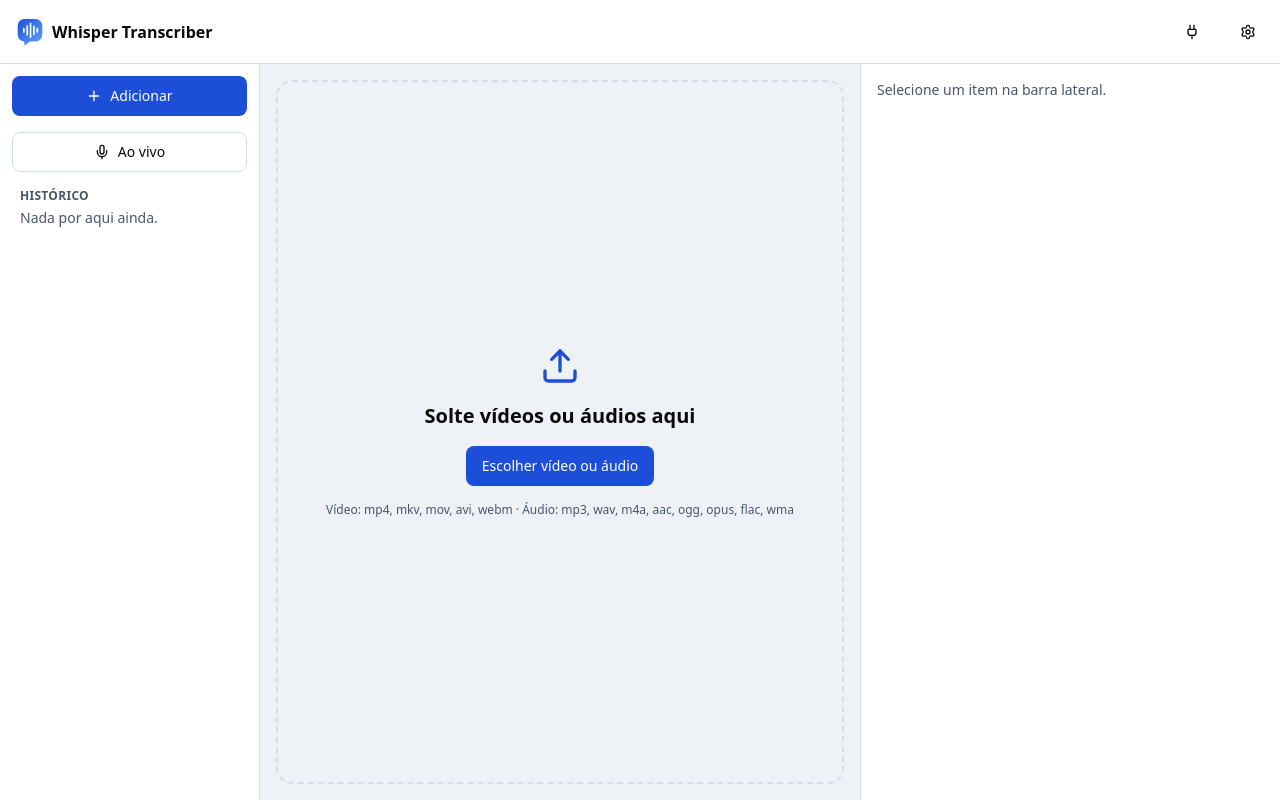
Test case: App › ⚙ abre as configurações e "Voltar" retorna
Click the button named "Configurações": (1248, 32) [1232,16,1264,48]
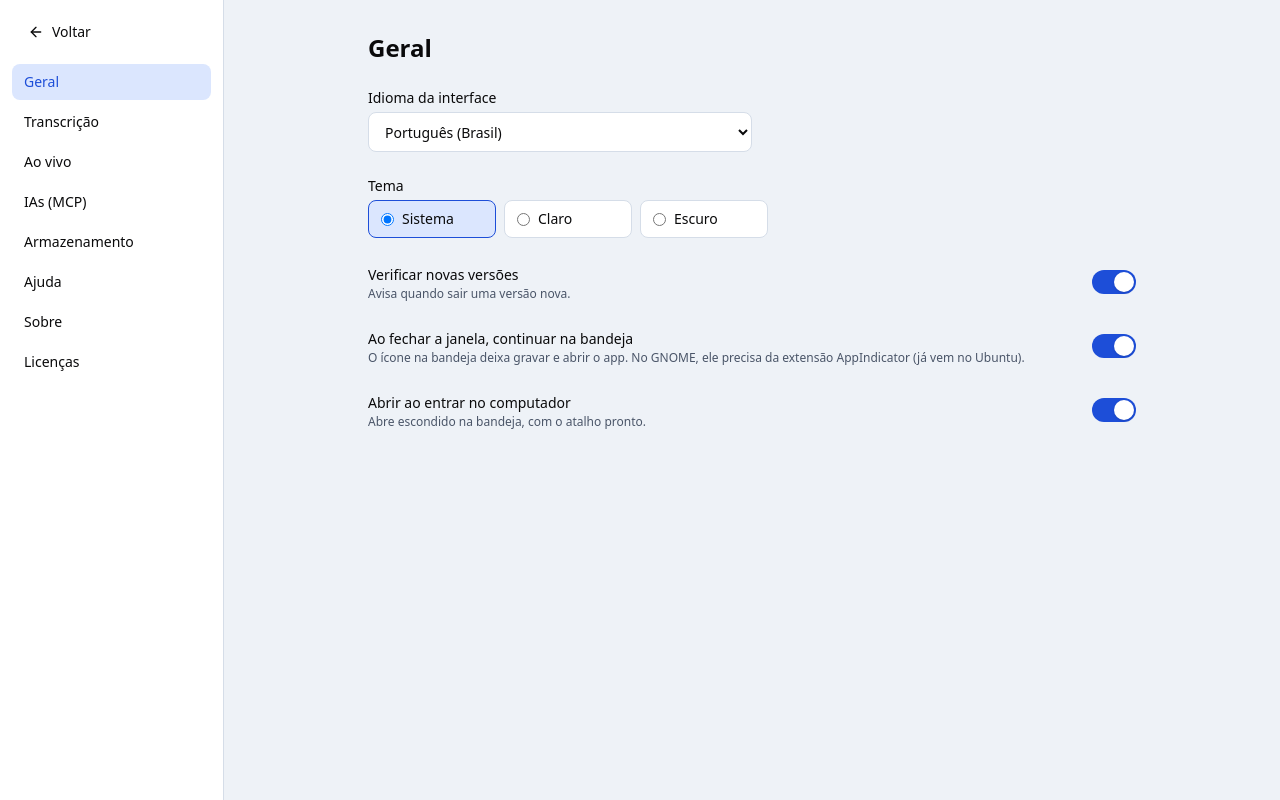
Check: the heading "Geral" is shown, box [368,31,432,64]
Click the button "Voltar": (112, 32) [12,12,211,52]
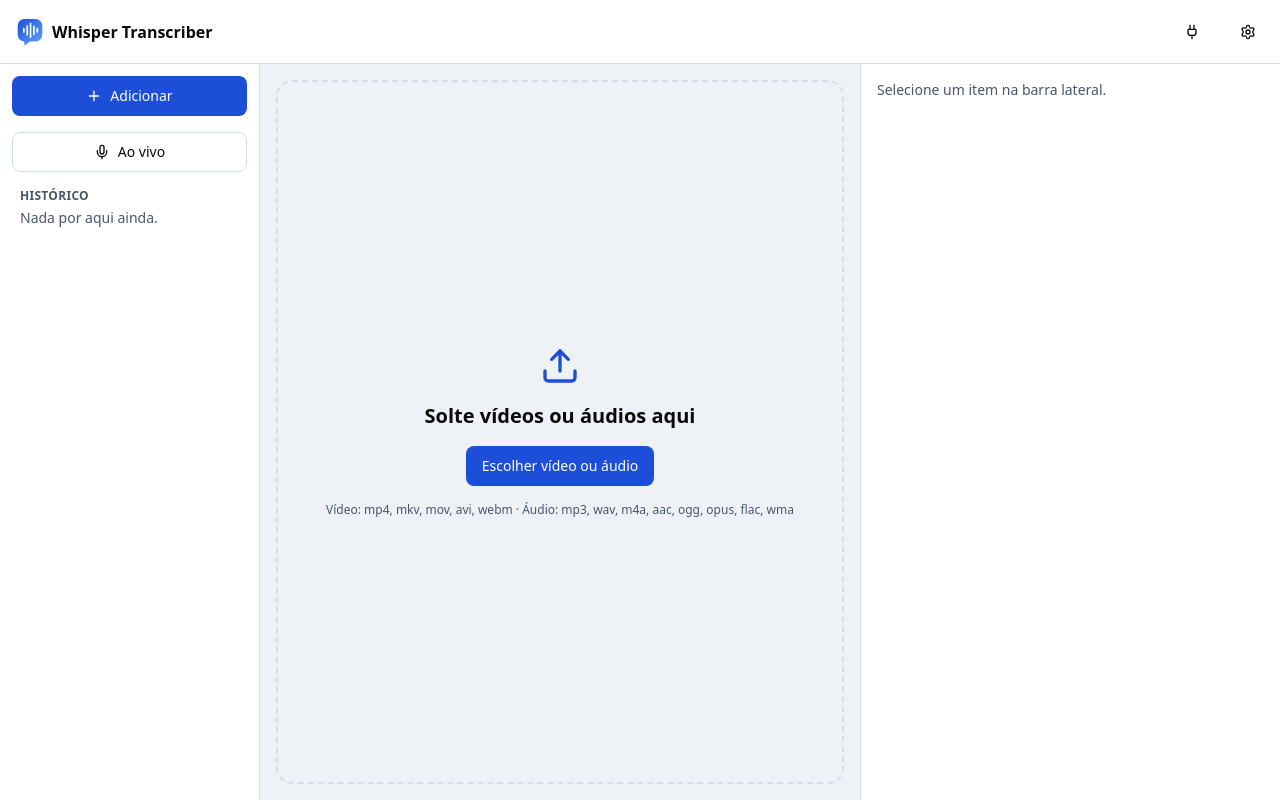
Check: the text "Solte vídeos ou áudios aqui" is shown, box [424,402,695,430]
